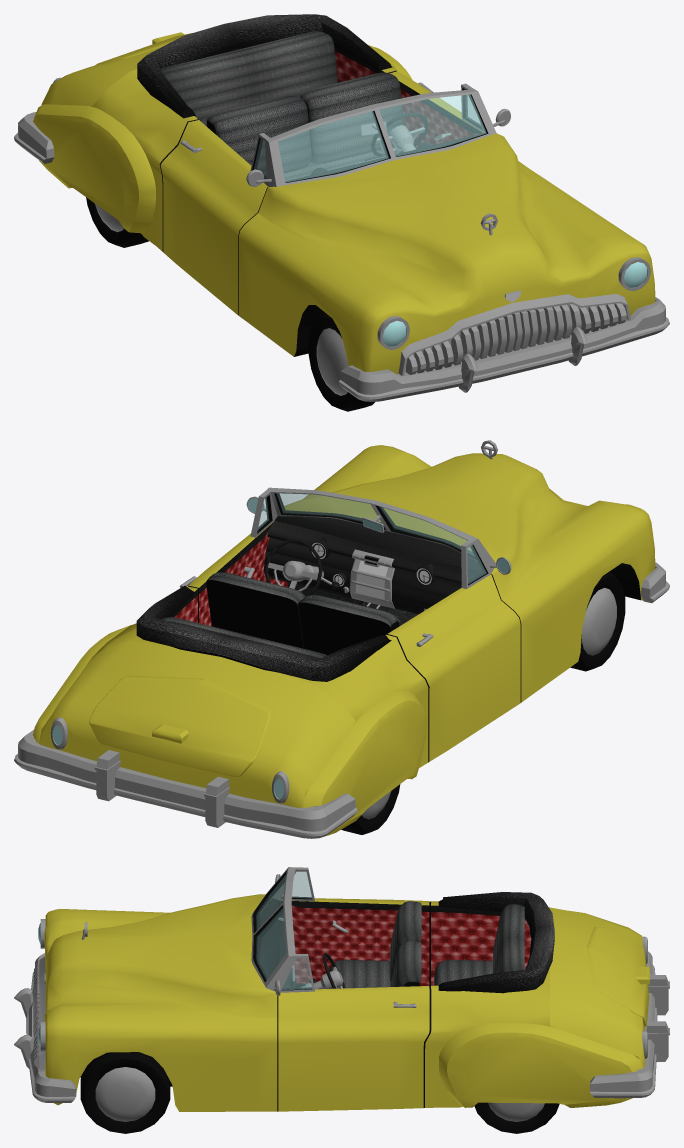
Rendered from Buick.FBX.
The picture shows the model from 3 angles, top to bottom: view 1: azimuth 30°, elevation 25°; view 2: azimuth 150°, elevation 25°; view 3: azimuth 270°, elevation 25°; orthographic projection. The views are drawn at different scales.
Visible parts, largest first — view 1: Box001; view 2: Box001; view 3: Box001.
Part boxes in pixels (x1,y1,x2,y2): Box001: (14, 14, 669, 411); Box001: (14, 440, 669, 838); Box001: (14, 867, 669, 1133).
Size of the model in its own units: 73.45 by 45.18 by 152.
